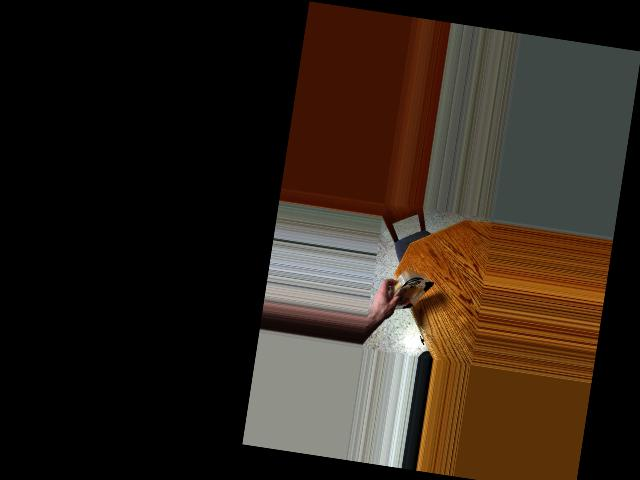cheese: (386, 263, 433, 326)
